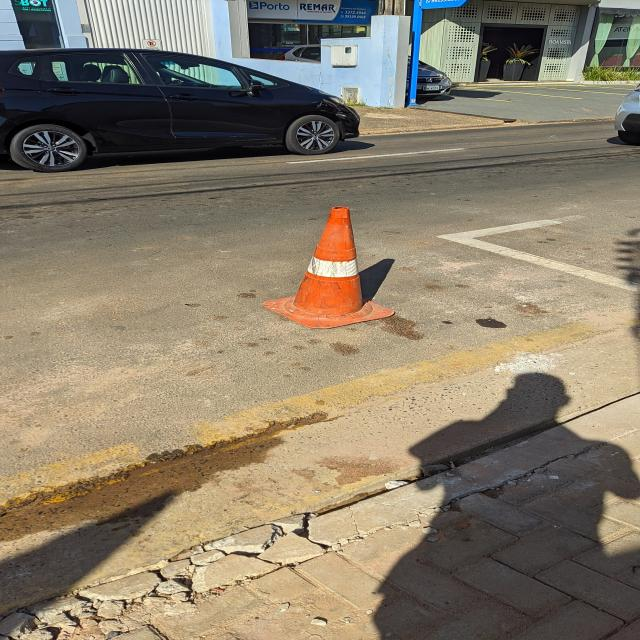cone: (256, 204, 401, 332)
